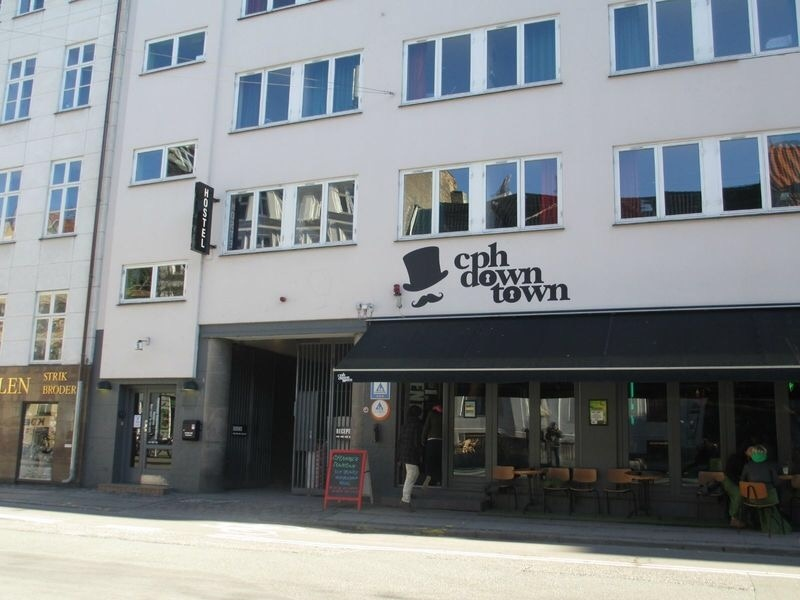text: (529, 252, 545, 289), (465, 252, 480, 289), (481, 252, 496, 289), (497, 252, 512, 289), (513, 252, 528, 289), (337, 455, 352, 486), (465, 242, 480, 270), (481, 242, 496, 270), (497, 242, 510, 270), (452, 242, 464, 270), (497, 282, 512, 304), (513, 282, 528, 304), (529, 282, 544, 304), (545, 282, 560, 304), (17, 379, 33, 396), (1, 379, 16, 396), (353, 455, 361, 486), (561, 282, 572, 304), (205, 188, 208, 250), (489, 282, 496, 304), (49, 386, 64, 396), (49, 373, 64, 383), (460, 252, 464, 289), (65, 386, 77, 396), (209, 188, 210, 250), (43, 386, 48, 396), (379, 402, 384, 411), (44, 373, 48, 383), (380, 384, 384, 394), (335, 455, 336, 486), (65, 373, 68, 383), (385, 384, 386, 394)
